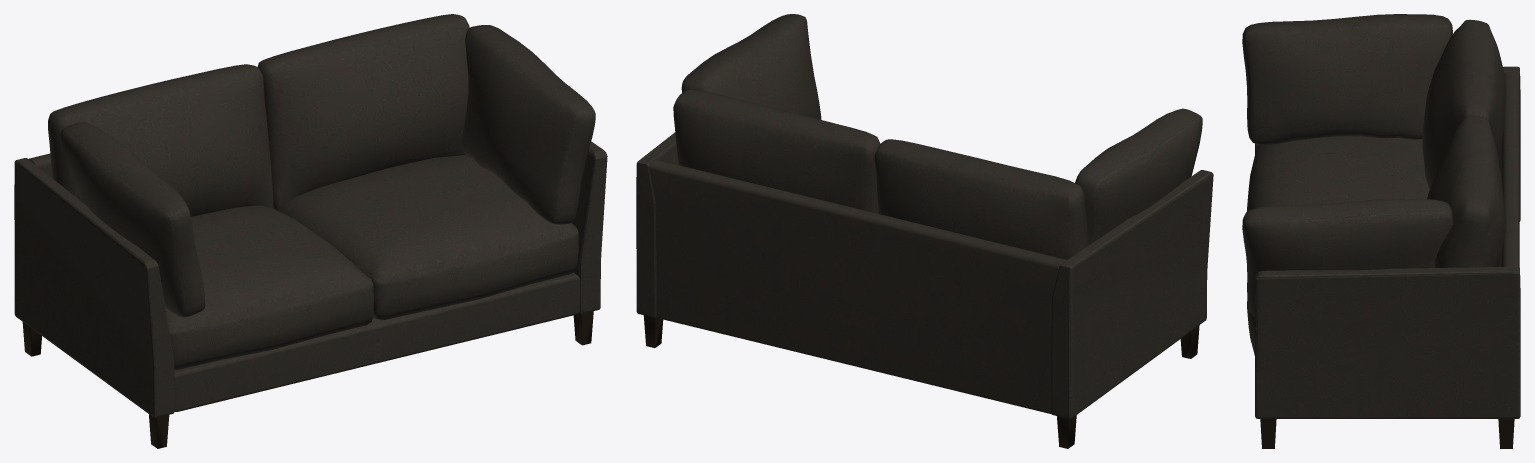
File: loveseat_abo_B071FMSY5M.glb
3 views of the same model, side by side, from view 1: azimuth 30°, elevation 25°; view 2: azimuth 150°, elevation 25°; view 3: azimuth 270°, elevation 25° (orthographic). The views are drawn at different scales.
Parts seen in each view (by area): view 1: RootNode; view 2: RootNode; view 3: RootNode.
Boxes of the visible parts, <box> form: RootNode: <box>14,14,607,448</box>; RootNode: <box>636,14,1213,448</box>; RootNode: <box>1242,14,1520,448</box>.
Bounding box in the file's own units: 1.75 × 0.92 × 0.969.
1 material, 1 textured.
